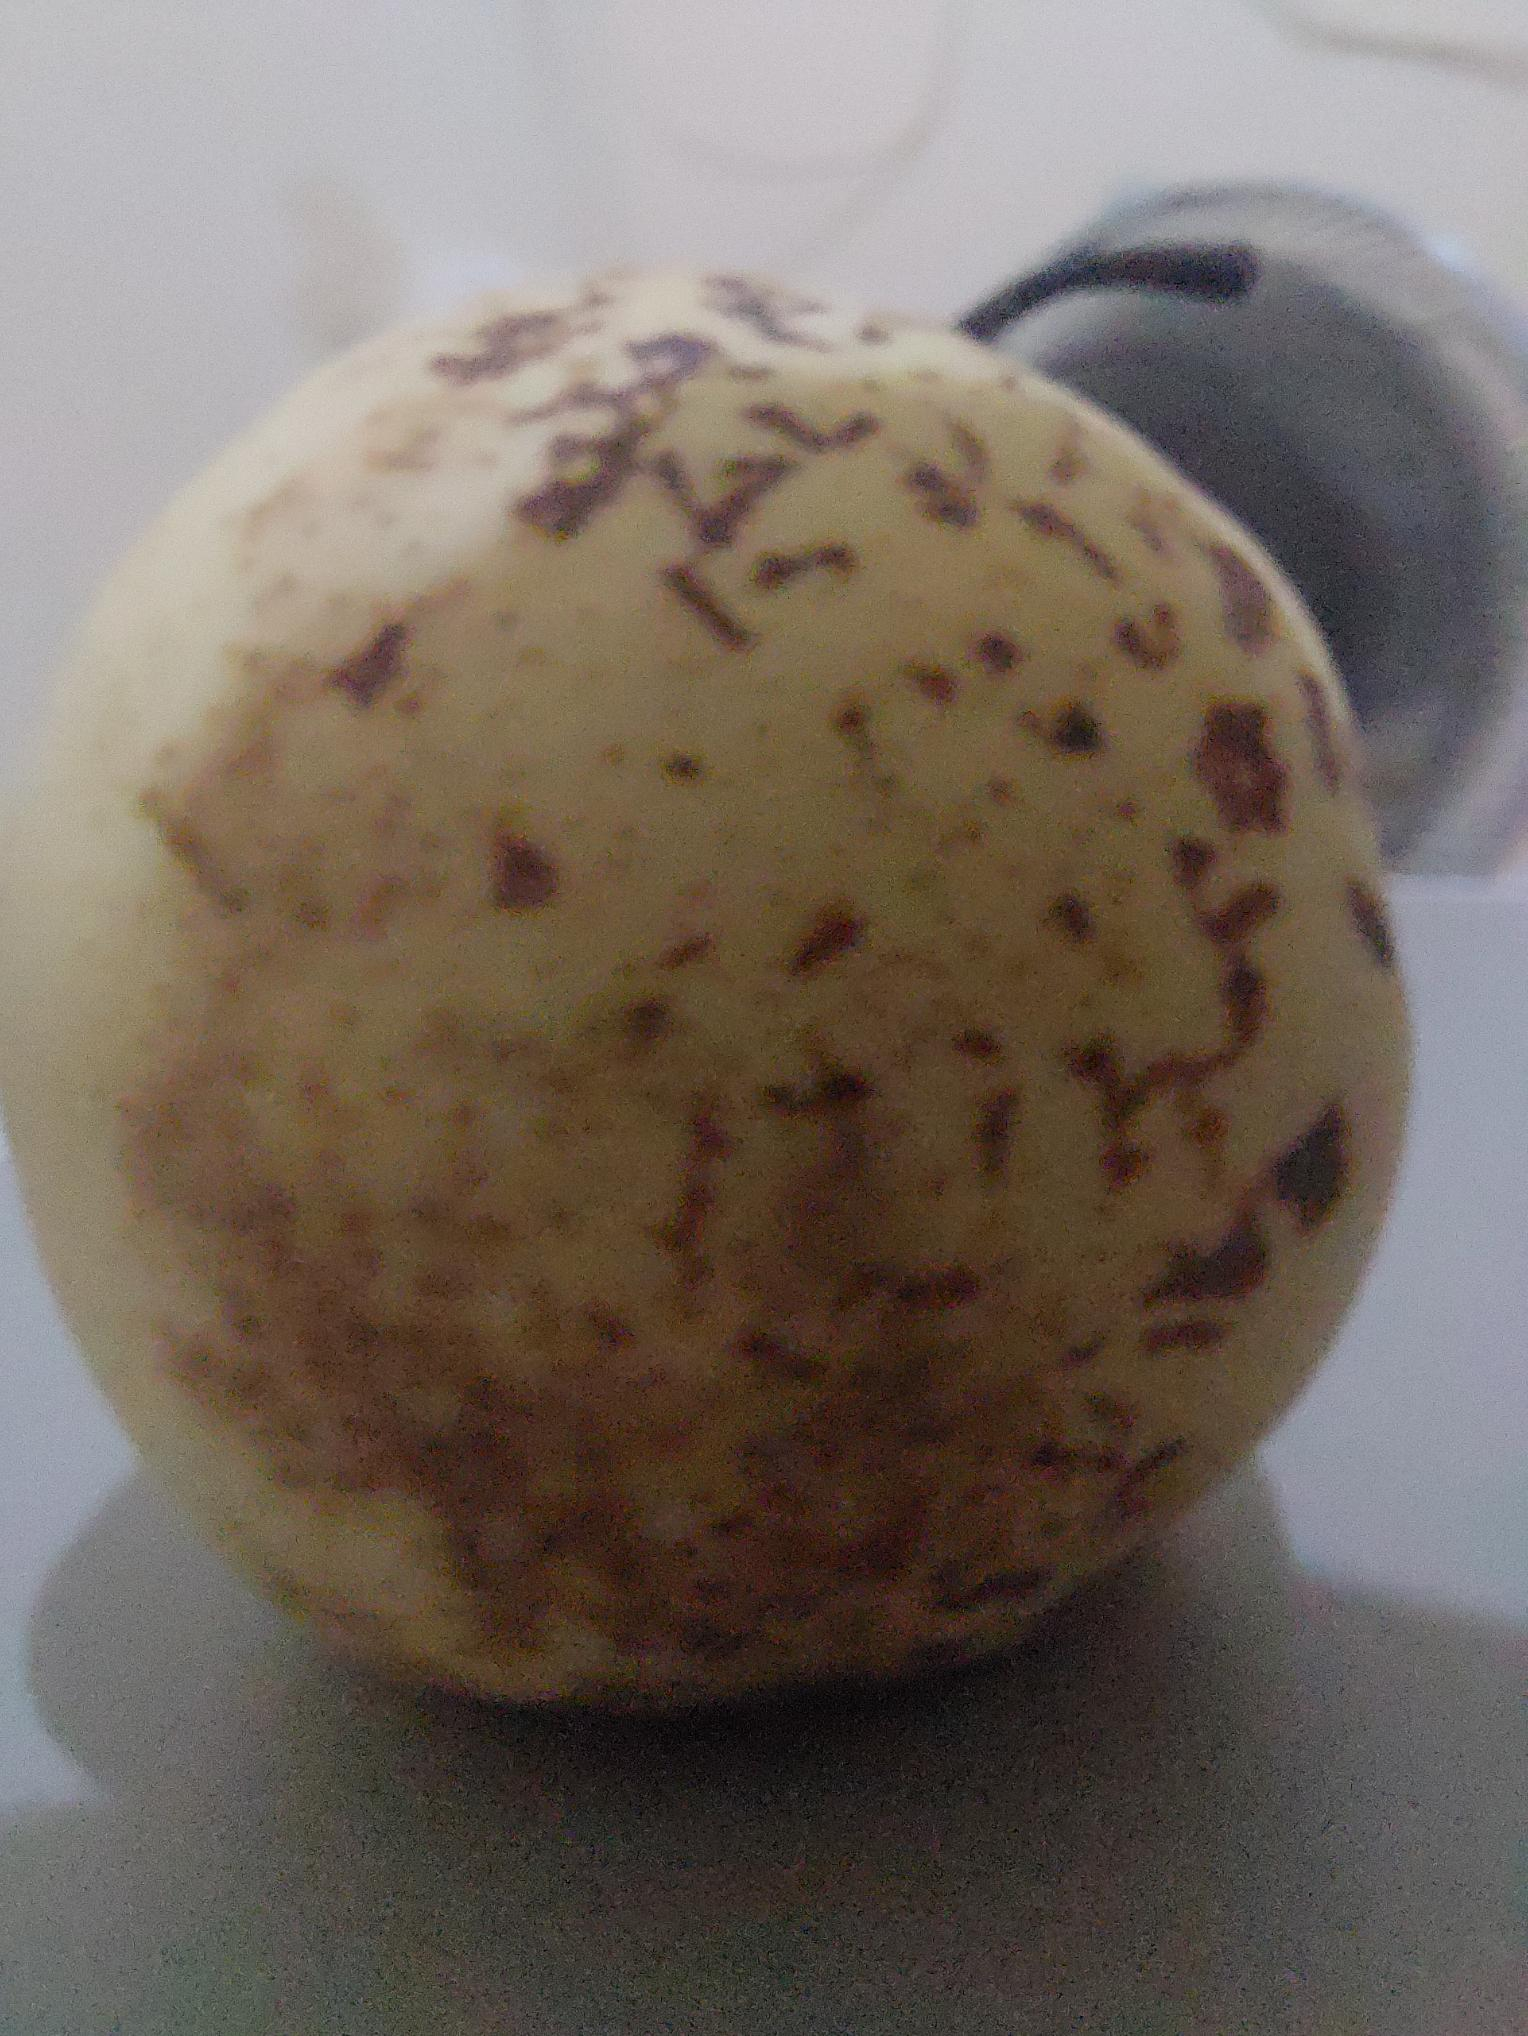Bad Pear: (0, 233, 1441, 1747)
